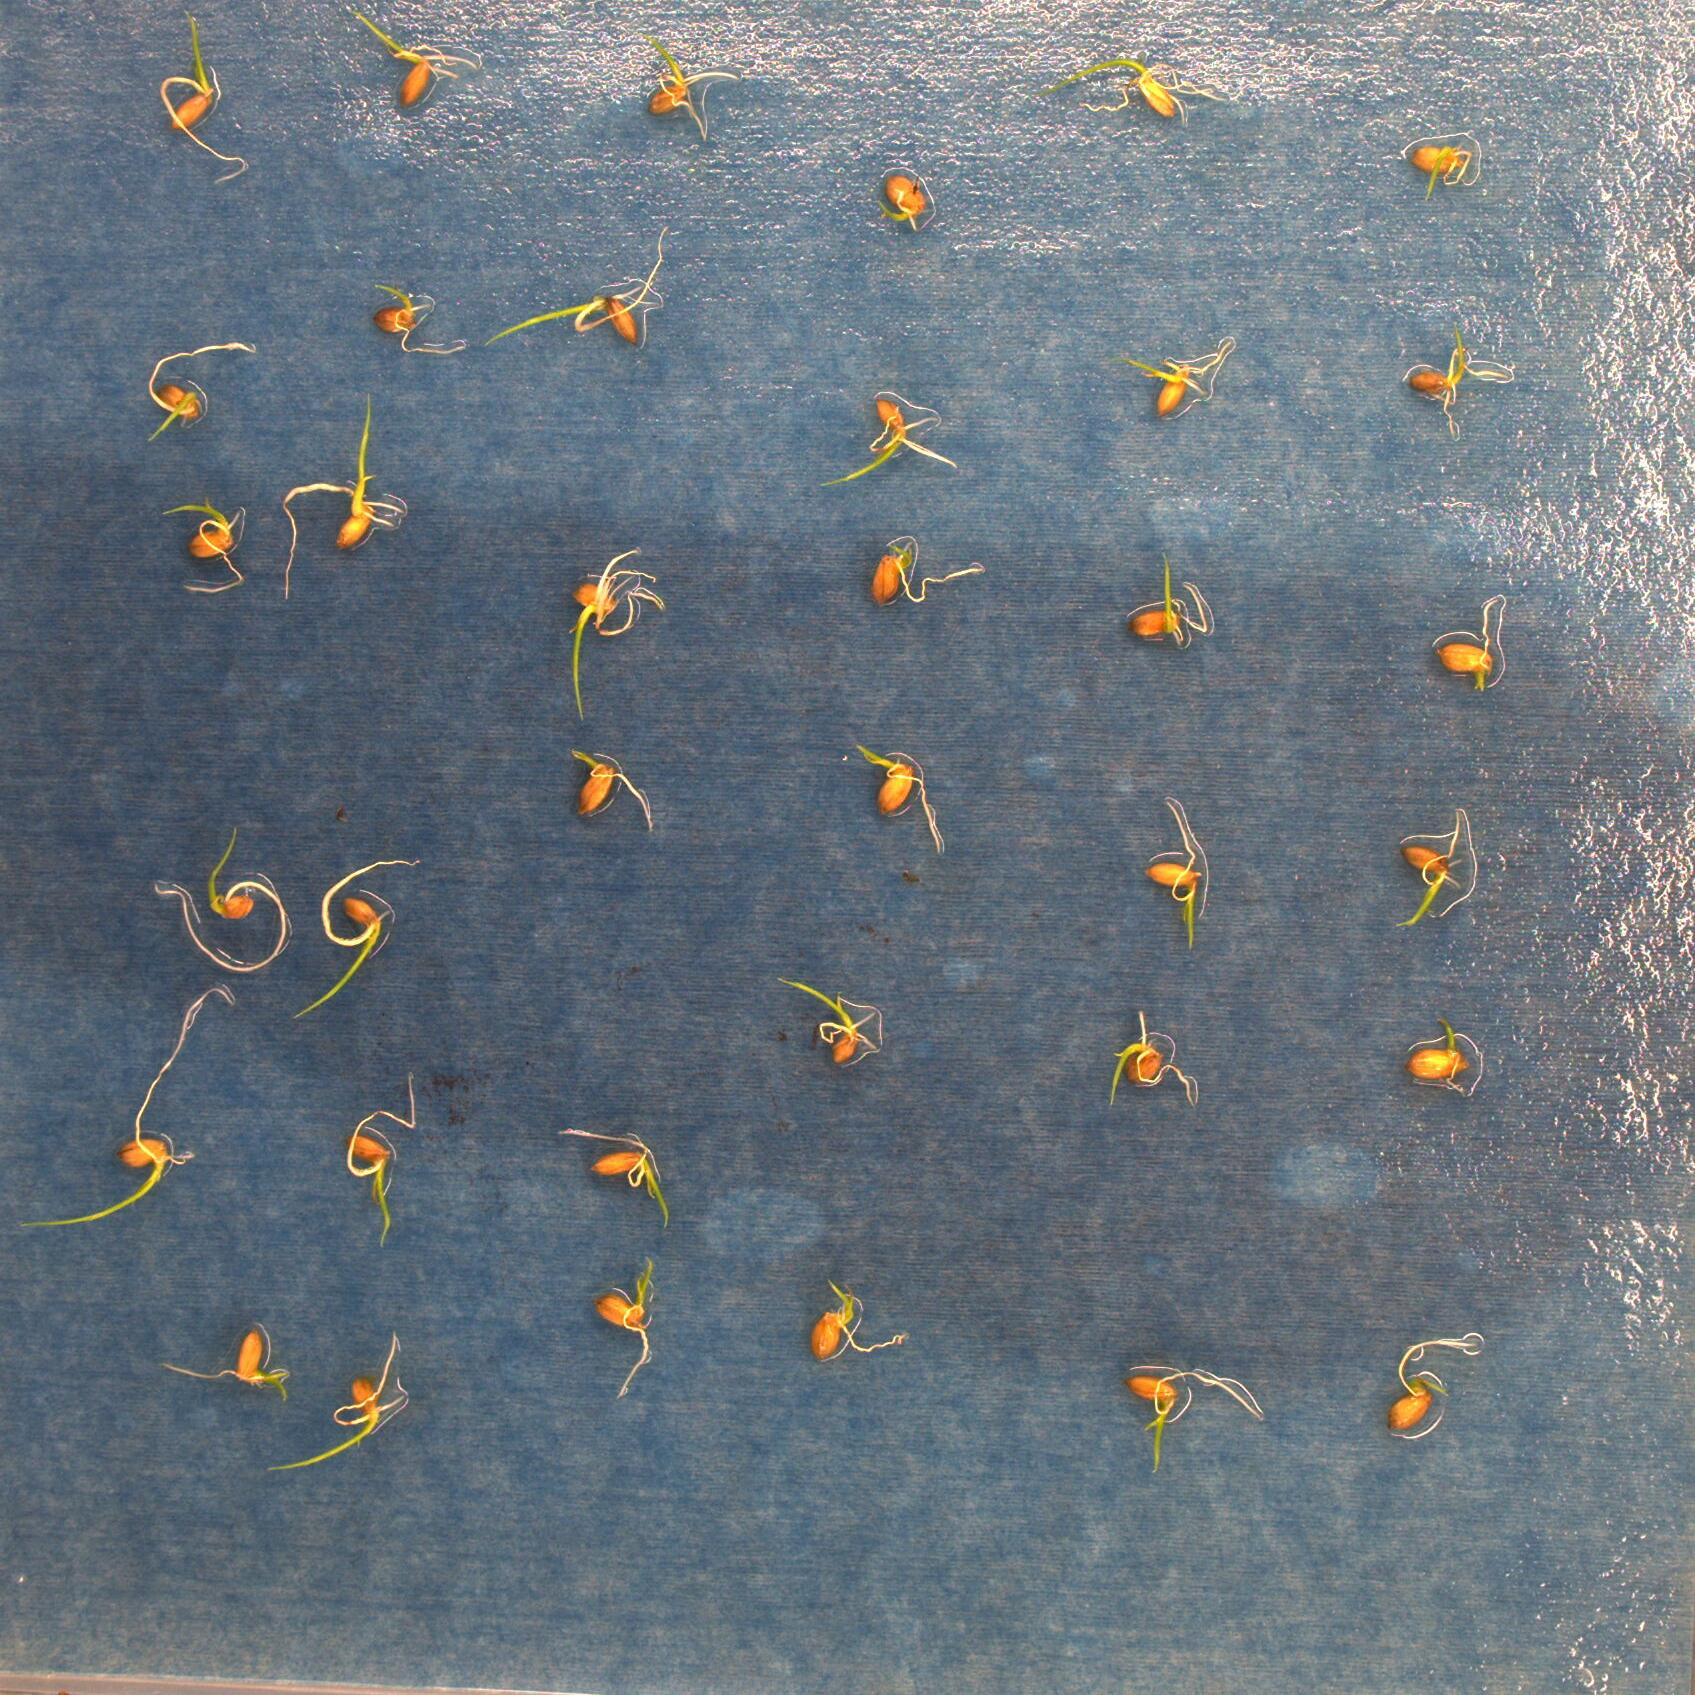sprout: (19, 983, 234, 1234), (276, 390, 402, 601), (483, 224, 678, 349), (287, 849, 422, 1020), (261, 1332, 408, 1478), (152, 827, 289, 978), (567, 543, 664, 725), (158, 12, 251, 189), (1125, 1363, 1270, 1475), (341, 1069, 424, 1243), (813, 400, 962, 494), (348, 8, 477, 110), (554, 1122, 677, 1229), (1048, 57, 1231, 129), (143, 338, 262, 442), (767, 969, 883, 1069), (1405, 334, 1516, 438), (854, 740, 948, 860), (1381, 1327, 1485, 1433), (160, 1327, 296, 1403), (863, 532, 990, 612), (591, 1254, 660, 1402), (1146, 796, 1211, 950), (1127, 334, 1240, 421), (1391, 807, 1468, 931), (640, 20, 716, 143), (1102, 1012, 1197, 1108), (802, 1281, 910, 1364), (1125, 553, 1215, 652), (161, 498, 251, 594), (563, 745, 661, 834), (366, 278, 467, 360), (1433, 590, 1503, 691), (1406, 1018, 1471, 1090), (1409, 137, 1476, 203), (872, 168, 924, 237)
